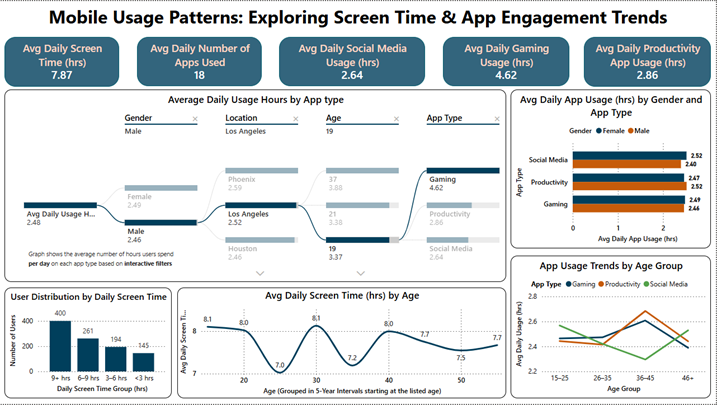

The page's visual inventory and layout, read from the dashboard file:
{"tool":"powerbi","page":{"name":"Page 1","canvas":[1280,720],"ordinal":0},"visuals":[{"type":"textbox","box":[0,0,1280,75.8],"z":0},{"type":"decompositionTreeVisual","title":"Average Daily Usage Hours by App type","fields":{"ExplainBy":["mobile_usage_behavioral_analysis.Gender","mobile_usage_behavioral_analysis.Location","mobile_usage_behavioral_analysis.Age","App_Usage_By_Type.App_Usage_Type"],"Analyze":["App_Usage_By_Type.Avg Daily Usage Hours by App Type"]},"box":[8.1,157.6,897.3,343.9],"z":0,"group":"g1"},{"type":"card","title":"Avg Daily Screen Time (hrs)","fields":{"Values":["Avg(mobile_usage_behavioral_analysis.Daily_Screen_Time_Hours)"]},"box":[8.1,63.6,205.1,89],"z":1000},{"type":"card","title":"Avg Daily Number of Apps Used","fields":{"Values":["Avg(mobile_usage_behavioral_analysis.Number_of_Apps_Used)"]},"box":[245.4,63.6,223,88.7],"z":2000},{"type":"card","title":"Avg Daily Social Media Usage (hrs)","fields":{"Values":["Avg(mobile_usage_behavioral_analysis.Social_Media_Usage_Hours)"]},"box":[499,63.6,260.6,88.7],"z":3000},{"type":"card","title":"Avg Daily Productivity App Usage (hrs)","fields":{"Values":["Avg(mobile_usage_behavioral_analysis.Productivity_App_Usage_Hours)"]},"box":[1044.2,63.6,226.6,89],"z":4000},{"type":"card","title":"Avg Daily Gaming Usage (hrs)","fields":{"Values":["Avg(mobile_usage_behavioral_analysis.Gaming_App_Usage_Hours)"]},"box":[791.6,63.6,226.6,88.7],"z":5000},{"type":"lineChart","title":"Avg Daily Screen Time (hrs) by Age","fields":{"Y":["Avg(mobile_usage_behavioral_analysis.Daily_Screen_Time_Hours)"],"Category":["mobile_usage_behavioral_analysis.Age (bins)"]},"box":[317,512.2,588.4,197.9],"z":6000},{"type":"clusteredColumnChart","title":"User Distribution by Daily Screen Time","fields":{"Category":["mobile_usage_behavioral_analysis.ScreenTimeGroup"],"Y":["CountNonNull(mobile_usage_behavioral_analysis.User_ID)"]},"box":[8.1,512.2,299.1,197.9],"z":7000},{"type":"clusteredBarChart","title":"Avg Daily App Usage (hrs) by Gender and App Type","fields":{"Category":["App_Usage_By_Type.App Type"],"Y":["Avg(App_Usage_By_Type.Usage_Hours)"],"Series":["GenderLookup.Gender"]},"box":[913.4,157.6,357.3,284.8],"z":8000},{"type":"lineChart","title":"App Usage Trends by Age Group","fields":{"Y":["Avg(App_Usage_By_Type.Usage_Hours)"],"Series":["App_Usage_By_Type.App Type"],"Category":["App_Usage_By_Type.Age_Group"]},"box":[913.4,454.9,357.3,255.2],"z":9000},{"type":"textbox","box":[45.9,436.5,281.6,61.4],"z":11000,"group":"g1"},{"type":"group","id":"g1","title":"Group 1","box":[8.1,157.6,897.3,343.9],"z":11001}]}

Visuals, with their boxes in screenshot pixels (x1, y1, x2, y2), scaled from the page's 1280x720 canvas onto the 717x405 screenshot:
textbox: crop(0, 0, 716, 43)
"Average Daily Usage Hours by App type" decompositionTreeVisual: crop(5, 89, 507, 282)
"Avg Daily Screen Time (hrs)" card: crop(5, 36, 119, 86)
"Avg Daily Number of Apps Used" card: crop(137, 36, 262, 86)
"Avg Daily Social Media Usage (hrs)" card: crop(280, 36, 425, 86)
"Avg Daily Productivity App Usage (hrs)" card: crop(585, 36, 712, 86)
"Avg Daily Gaming Usage (hrs)" card: crop(443, 36, 570, 86)
"Avg Daily Screen Time (hrs) by Age" lineChart: crop(178, 288, 507, 399)
"User Distribution by Daily Screen Time" clusteredColumnChart: crop(5, 288, 172, 399)
"Avg Daily App Usage (hrs) by Gender and App Type" clusteredBarChart: crop(512, 89, 712, 249)
"App Usage Trends by Age Group" lineChart: crop(512, 256, 712, 399)
textbox: crop(26, 246, 183, 280)
"Group 1" group: crop(5, 89, 507, 282)
